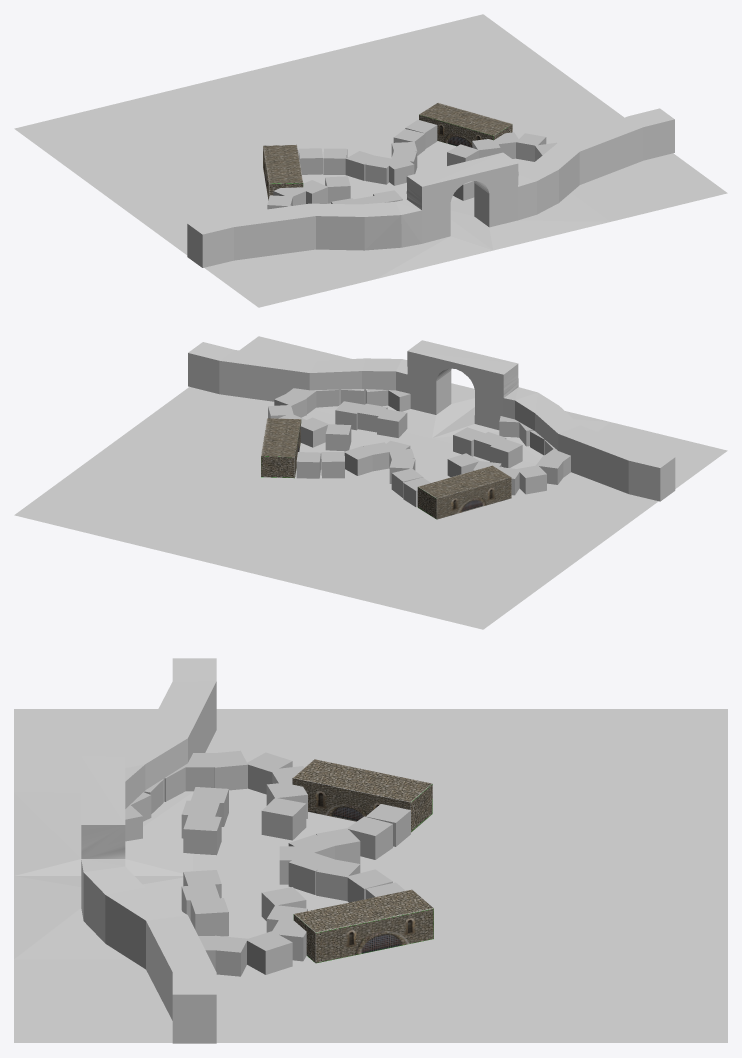
The model's file is obj_city.FBX.
3 renders of one model, top to bottom at view 1: azimuth 30°, elevation 25°; view 2: azimuth 150°, elevation 25°; view 3: azimuth 270°, elevation 25°, orthographic. The views are drawn at different scales.
Parts seen in each view (by area): view 1: Plane001, smallgate1, smallgate2, house7, house9, house8, house6, house024, house011, house036, house1, house012 (+1 smaller); view 2: Plane001, smallgate2, smallgate1, house034, house036, house014, house3, house021, house022, house5, house4, house035 (+5 smaller); view 3: Plane001, smallgate1, smallgate2, house034, house036, house011, house024, house7, house3, house015, house025, house014 (+12 smaller).
Boxes of the visible parts, x1,y1,x2,y2 form: Plane001: (14,14,727,307); smallgate1: (419,102,512,147); smallgate2: (263,144,303,200); house7: (323,148,347,174); house9: (298,148,322,174); house8: (365,155,395,184); house6: (345,151,377,180); house024: (516,133,546,161); house011: (325,176,350,203); house036: (373,181,474,202); house1: (389,156,414,185); house012: (298,180,327,203); Plane001: (14,336,727,629); smallgate2: (417,465,511,519); smallgate1: (261,418,301,478); house034: (335,401,522,467); house036: (377,409,484,456); house014: (518,465,546,494); house3: (344,446,372,475); house021: (325,424,351,451); house022: (300,417,328,447); house5: (296,452,320,478); house4: (321,452,344,478); house035: (357,403,387,432); Plane001: (14,658,727,1043); smallgate1: (293,889,433,963); smallgate2: (292,759,432,832); house034: (190,787,228,936); house036: (183,815,221,898); house011: (261,797,306,840); house024: (245,931,292,974); house7: (347,816,392,859); house3: (316,858,360,901); house015: (208,750,247,790); house025: (208,935,247,976); house014: (246,752,292,794).
Size of the model in its own units: 165 by 20.03 by 148.
